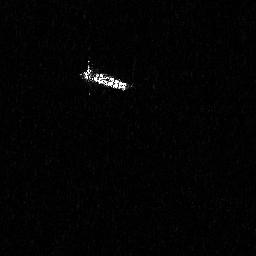ship: (79, 58, 135, 97)
